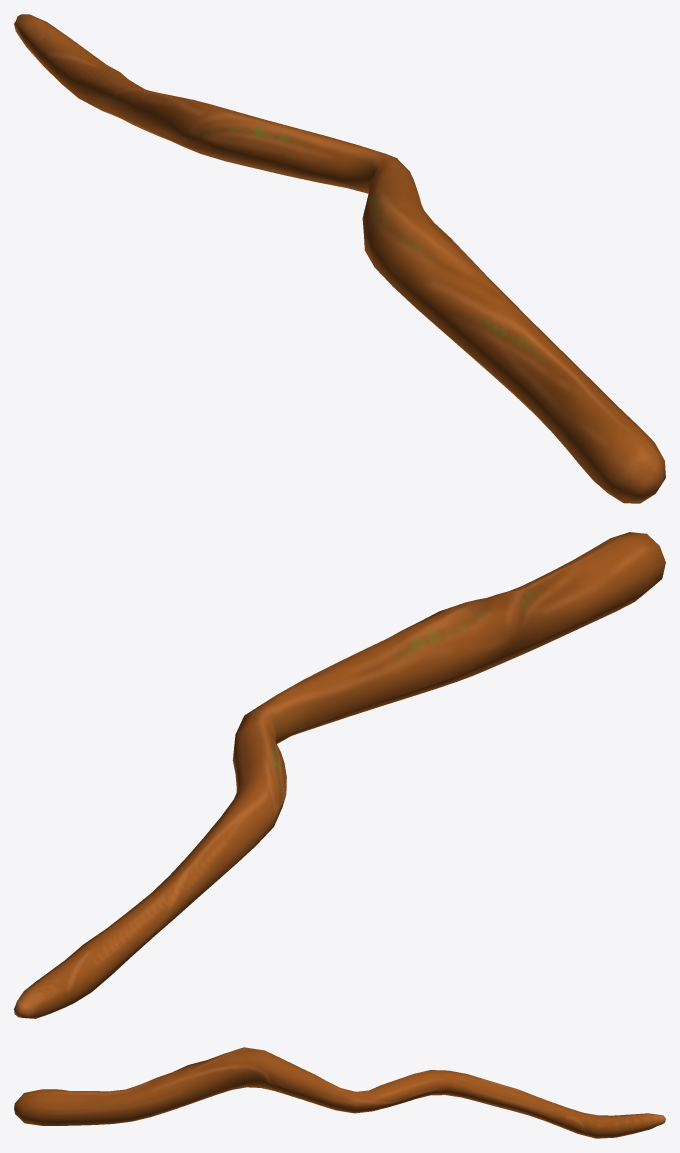
The model's file is kok_4.fbx.
3 views of the same model, one above another, from view 1: azimuth 30°, elevation 25°; view 2: azimuth 150°, elevation 25°; view 3: azimuth 270°, elevation 25° (orthographic). The views are drawn at different scales.
Parts seen in each view (by area): view 1: Retopo_kok4; view 2: Retopo_kok4; view 3: Retopo_kok4.
Boxes of the visible parts, x1,y1,x2,y2 form: Retopo_kok4: (14, 14, 665, 503); Retopo_kok4: (14, 532, 665, 1018); Retopo_kok4: (14, 1047, 665, 1138).
Size of the model in its own units: 187 by 208 by 1562.
